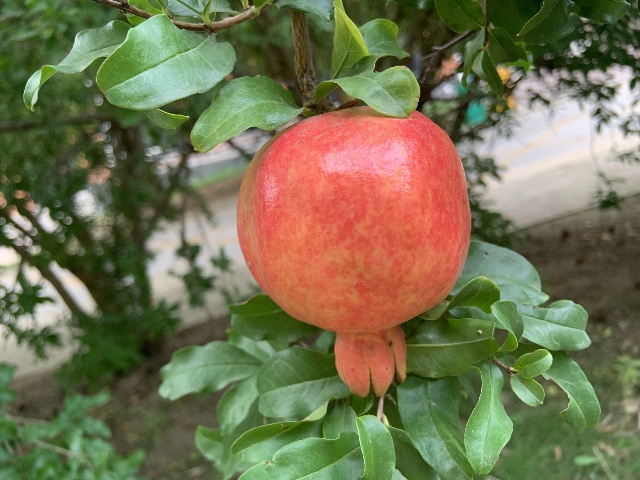ripe: (236, 105, 470, 398)
